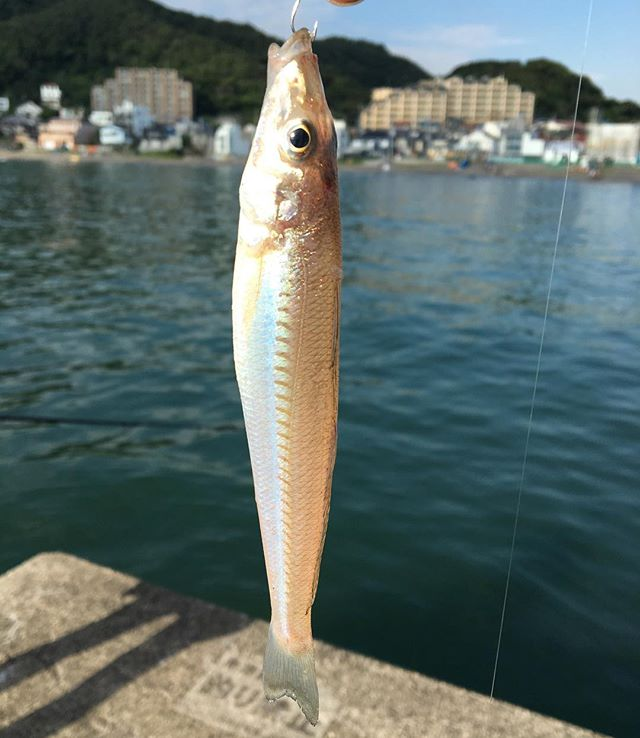kiss: (208, 17, 353, 720)
